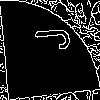J: (25, 25, 71, 54)
